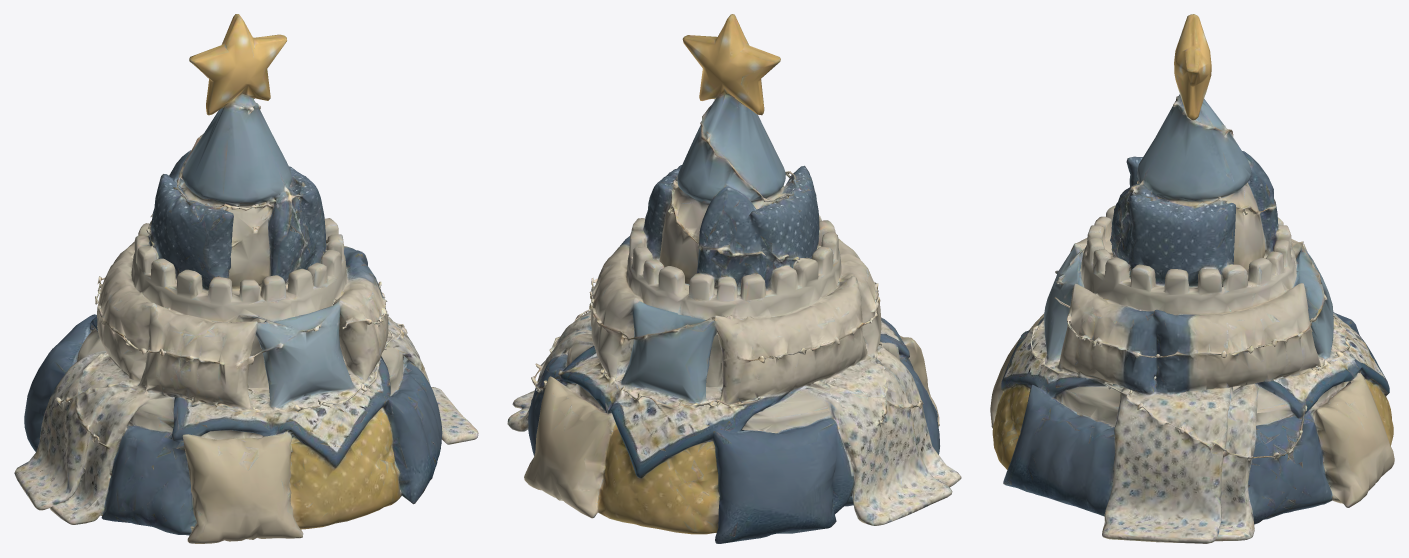
Rendered from wonder.glb.
The picture shows the model from 3 angles, left to right: view 1: azimuth 30°, elevation 25°; view 2: azimuth 150°, elevation 25°; view 3: azimuth 270°, elevation 25°; orthographic projection.
Parts seen in each view (by area): view 1: Mesh_0; view 2: Mesh_0; view 3: Mesh_0.
Boxes of the visible parts, x1=… form: Mesh_0: x1=14, y1=14, x2=478, y2=543; Mesh_0: x1=507, y1=14, x2=961, y2=543; Mesh_0: x1=990, y1=14, x2=1394, y2=543.
Bounding box in the file's own units: 1.91 × 1.91 × 1.61.
Materials: 1 (1 with a texture image).
